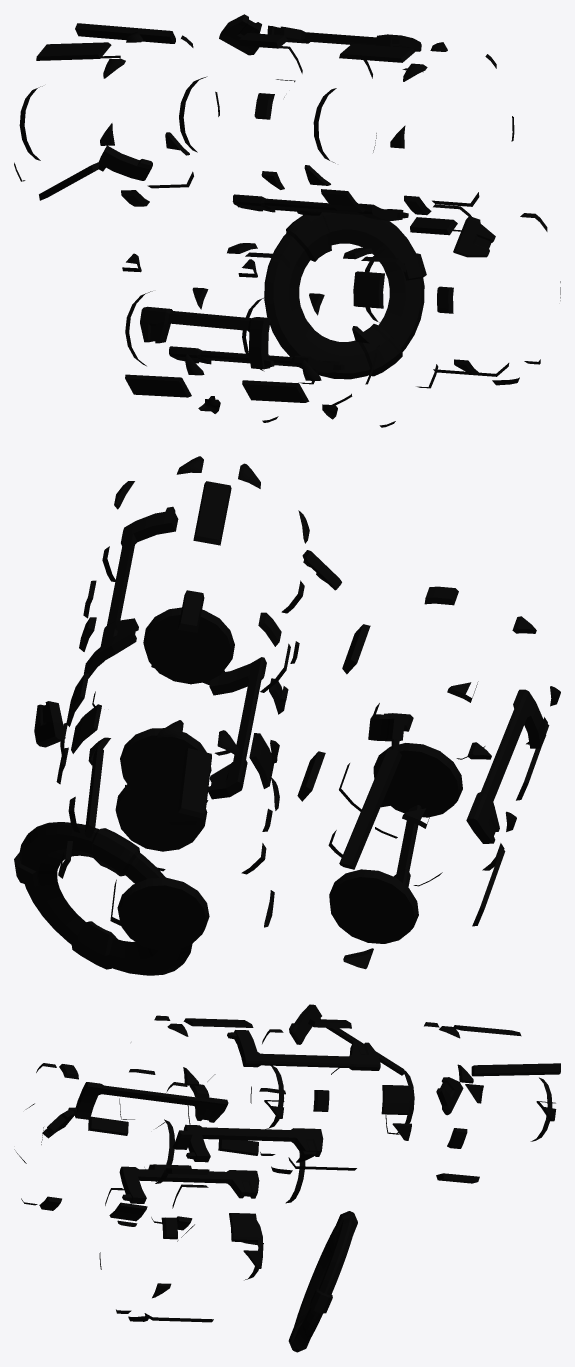
File: env_container_01_01_0.glb
The picture shows the model from 3 angles, top to bottom: view 1: azimuth 30°, elevation 25°; view 2: azimuth 150°, elevation 25°; view 3: azimuth 270°, elevation 25°; orthographic projection. The views are drawn at different scales.
Parts seen in each view (by area): view 1: env_container_01_ring (1), env_container_01_03_LOD0 (×3), env_container_01_02_LOD0 (×2), env_container_01_01_LOD0, env_container_01_connector (3), env_container_01_connector (2), env_container_01_connector (4), env_container_01_connector (1), env_container_01_connector_broken_02 (2), env_container_01_connector_broken_03 (2), env_container_01_connector_broken_01 (1), env_container_01_connector_broken_03 (1) (+1 smaller); view 2: env_container_01_03_LOD0 (×3), env_container_01_02_LOD0 (×2), env_container_01_ring (1), env_container_01_01_LOD0, env_container_01_connector (3), env_container_01_connector (1), env_container_01_connector (2), env_container_01_connector_broken_02 (1), env_container_01_connector_broken_03 (1), env_container_01_connector_broken_01 (1), env_container_01_connector (4), env_container_01_connector_broken_02 (2); view 3: env_container_01_03_LOD0 (×3), env_container_01_02_LOD0 (×2), env_container_01_ring (1), env_container_01_01_LOD0, env_container_01_connector (1), env_container_01_connector (2), env_container_01_connector (4), env_container_01_connector (3), env_container_01_connector_broken_02 (2), env_container_01_connector_broken_01 (1), env_container_01_connector_broken_03 (1), env_container_01_connector_broken_02 (1).
Boxes of the visible parts, left/top/right/bottom form: env_container_01_ring (1): left=264, top=212, right=426, bottom=379; env_container_01_03_LOD0 (×3): left=165, top=33, right=514, bottom=427; env_container_01_02_LOD0 (×2): left=14, top=31, right=319, bottom=422; env_container_01_01_LOD0: left=352, top=204, right=560, bottom=385; env_container_01_connector (3): left=140, top=306, right=274, bottom=369; env_container_01_connector (2): left=232, top=194, right=408, bottom=220; env_container_01_connector (4): left=169, top=346, right=344, bottom=372; env_container_01_connector (1): left=267, top=25, right=421, bottom=51; env_container_01_connector_broken_02 (2): left=75, top=23, right=175, bottom=43; env_container_01_connector_broken_03 (2): left=453, top=216, right=495, bottom=257; env_container_01_connector_broken_01 (1): left=98, top=145, right=152, bottom=180; env_container_01_connector_broken_03 (1): left=219, top=14, right=261, bottom=55; env_container_01_03_LOD0 (×3): left=60, top=456, right=560, bottom=838; env_container_01_02_LOD0 (×2): left=58, top=713, right=516, bottom=969; env_container_01_ring (1): left=14, top=822, right=192, bottom=975; env_container_01_01_LOD0: left=56, top=647, right=285, bottom=871; env_container_01_connector (3): left=466, top=689, right=546, bottom=843; env_container_01_connector (1): left=99, top=506, right=178, bottom=660; env_container_01_connector (2): left=208, top=657, right=266, bottom=799; env_container_01_connector_broken_02 (1): left=339, top=748, right=401, bottom=869; env_container_01_connector_broken_03 (1): left=34, top=701, right=65, bottom=747; env_container_01_connector_broken_01 (1): left=368, top=714, right=404, bottom=750; env_container_01_connector (4): left=381, top=800, right=421, bottom=887; env_container_01_connector_broken_02 (2): left=84, top=746, right=103, bottom=837; env_container_01_03_LOD0 (×3): left=14, top=1015, right=414, bottom=1226; env_container_01_02_LOD0 (×2): left=144, top=1022, right=556, bottom=1245; env_container_01_ring (1): left=288, top=1211, right=357, bottom=1352; env_container_01_01_LOD0: left=99, top=1164, right=263, bottom=1322; env_container_01_connector (1): left=227, top=1030, right=380, bottom=1070; env_container_01_connector (2): left=183, top=1124, right=323, bottom=1162; env_container_01_connector (4): left=119, top=1166, right=259, bottom=1203; env_container_01_connector (3): left=68, top=1082, right=228, bottom=1122; env_container_01_connector_broken_02 (2): left=471, top=1063, right=560, bottom=1076; env_container_01_connector_broken_01 (1): left=289, top=1004, right=321, bottom=1044; env_container_01_connector_broken_03 (1): left=436, top=1077, right=463, bottom=1115; env_container_01_connector_broken_02 (1): left=326, top=1027, right=404, bottom=1075.
Size of what is drawn, in the model's own units: 3.76 by 3.54 by 5.4.
Materials: 2 (2 with a texture image).
